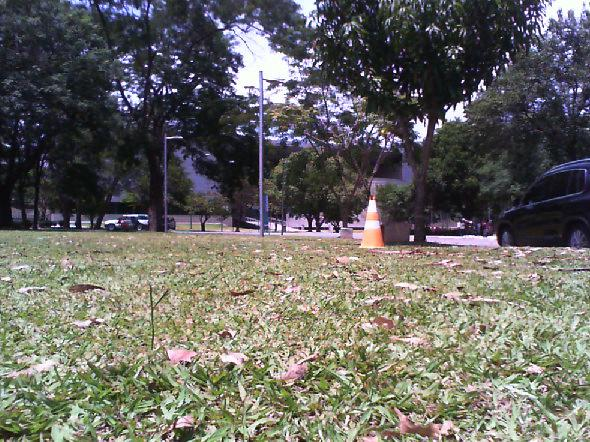0 cone: (358, 193, 387, 250)
